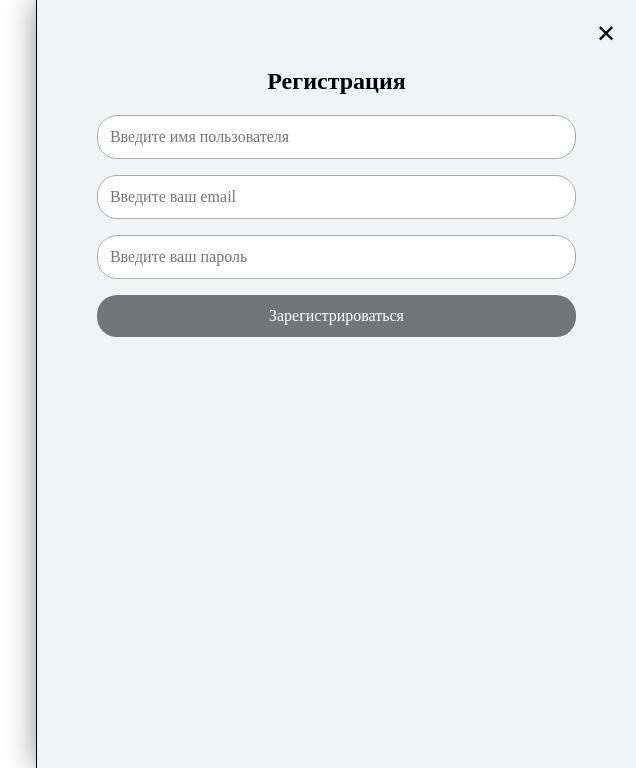
RegisterModal › shows validation error for invalid email format
Type "testuser" into the field with placeholder "Введите имя пользователя" at (336, 137), box [97,115,576,159]
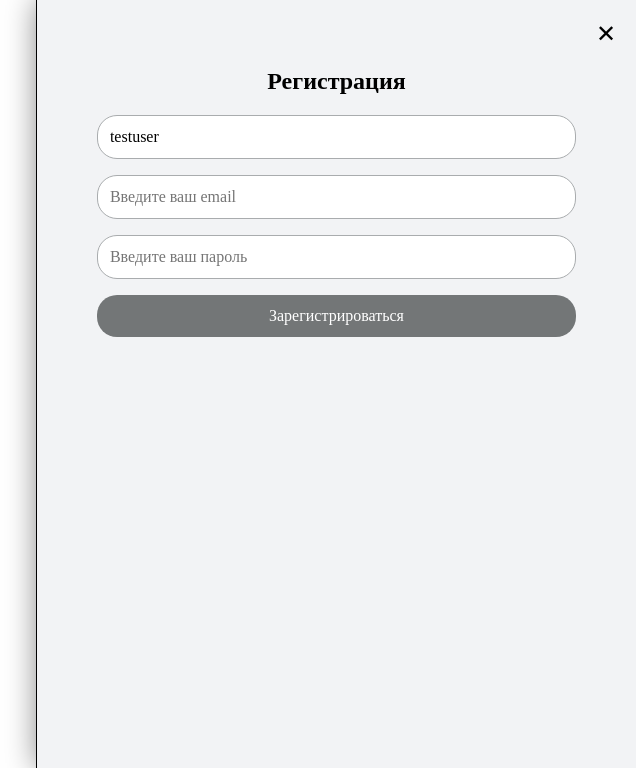
Type "invalid-email" into the field with placeholder "Введите ваш email" at (336, 197), box [97,175,576,219]
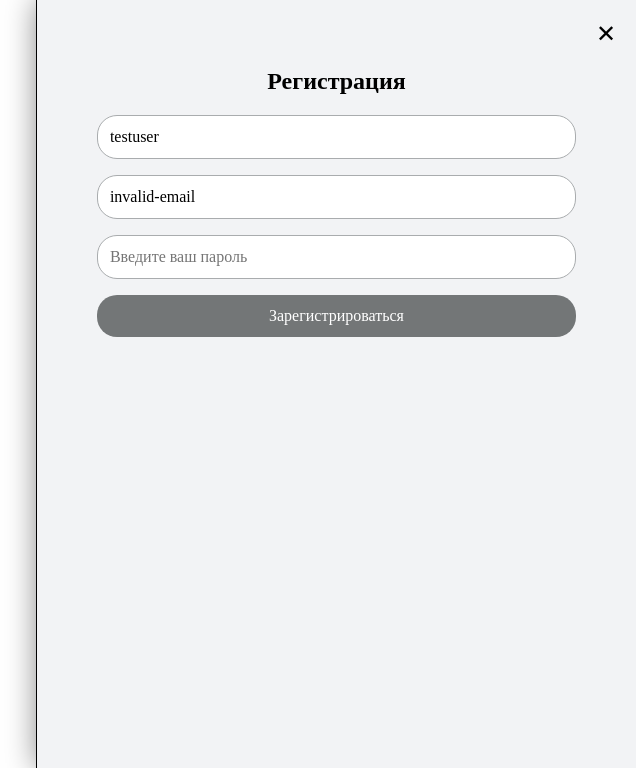
Type "password123" into the password field with placeholder "Введите ваш пароль" at (336, 257), box [97,235,576,279]
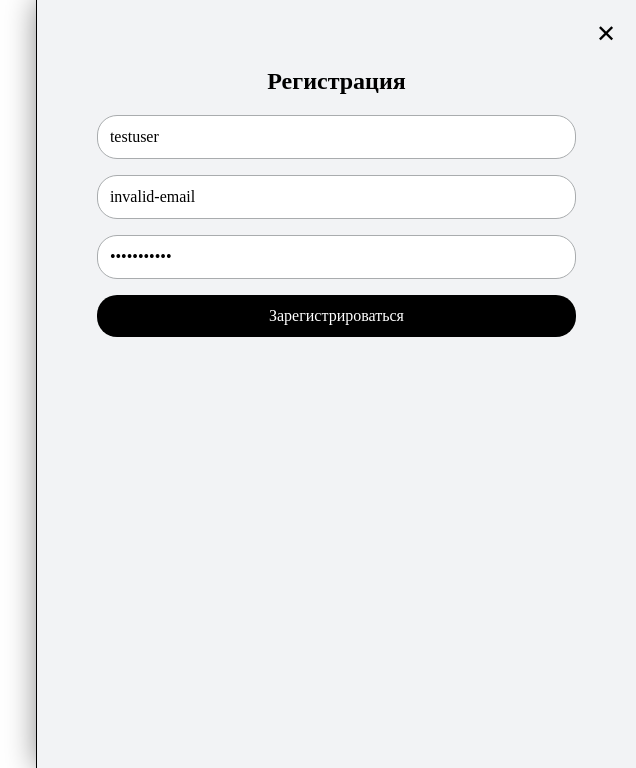
Check: the form with placeholder "Введите ваш email" is shown, box [97,115,576,337]
Click the button "Зарегистрироваться" at (336, 316), box [97,295,576,337]
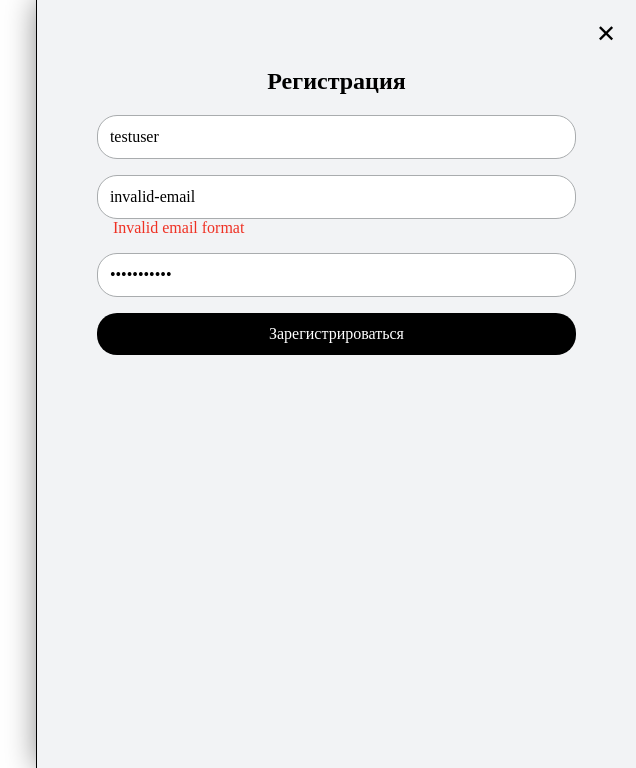
Check: the text "Invalid email format" is shown, box [113,219,244,236]
